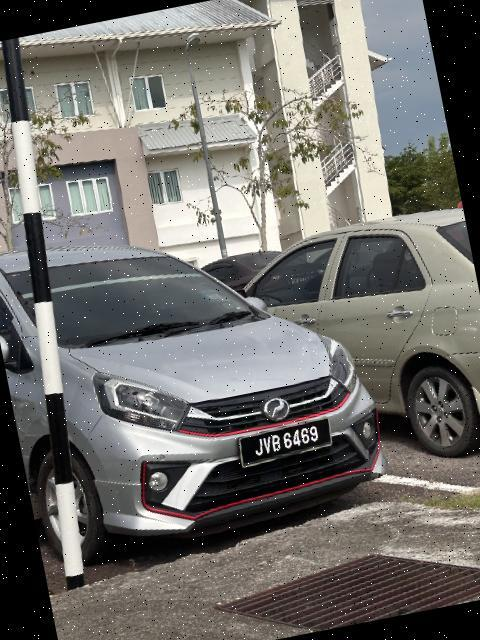JVB6469: (234, 417, 336, 469)
License_Plate: (234, 417, 336, 469)
